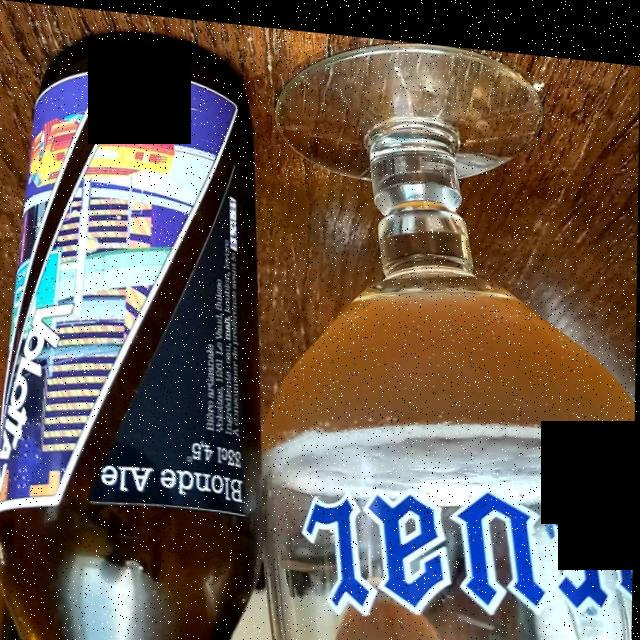light-beer: (267, 280, 633, 492)
